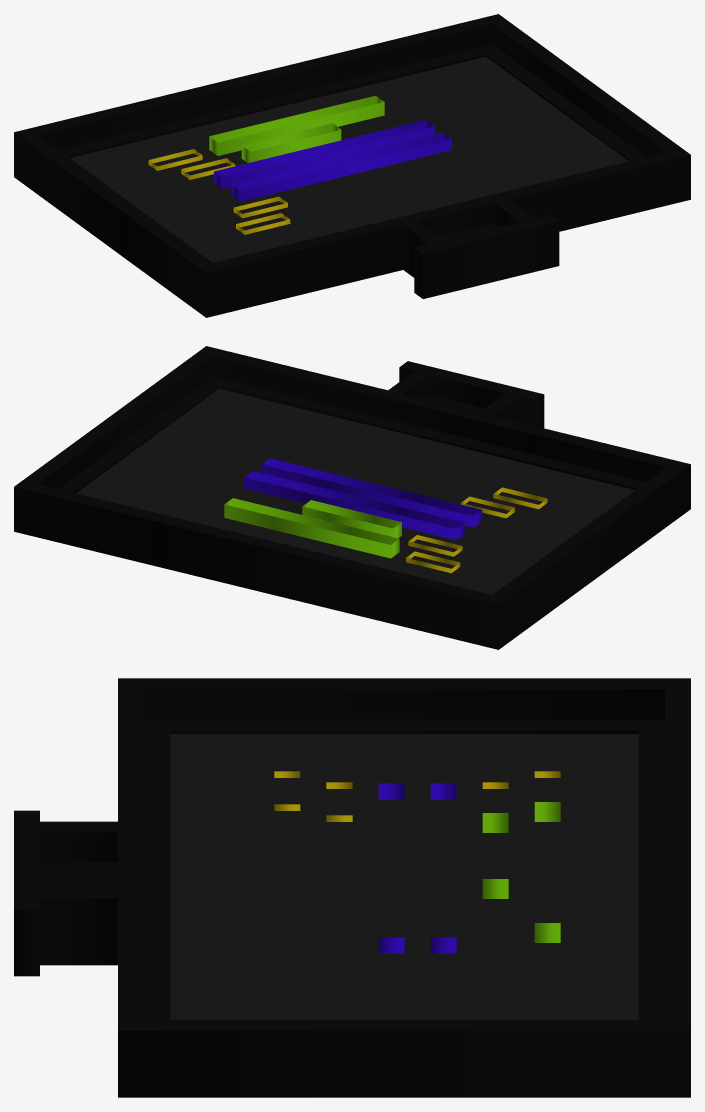
File: web.gltf
3 views of the same model, one above another, from view 1: azimuth 30°, elevation 25°; view 2: azimuth 150°, elevation 25°; view 3: azimuth 270°, elevation 25° (orthographic). The views are drawn at different scales.
Visible parts, largest first — view 1: Curve.003, Curve, Curve.005, Curve.001, Curve.006, Curve.004; view 2: Curve.003, Curve, Curve.001, Curve.005, Curve.006, Curve.004; view 3: Curve, Curve.003, Curve.001, Curve.006, Curve.005, Curve.004.
Boxes of the visible parts, <box> form: Curve.003: <box>14,14,690,317</box>; Curve: <box>70,56,628,262</box>; Curve.005: <box>214,120,451,201</box>; Curve.001: <box>59,44,645,240</box>; Curve.006: <box>209,95,384,162</box>; Curve.004: <box>148,149,290,234</box>; Curve.003: <box>14,346,690,649</box>; Curve: <box>76,388,634,594</box>; Curve.001: <box>59,376,645,493</box>; Curve.005: <box>244,458,482,540</box>; Curve.006: <box>224,498,401,558</box>; Curve.004: <box>406,487,547,573</box>; Curve: <box>170,734,638,1019</box>; Curve.003: <box>14,678,690,1097</box>; Curve.001: <box>40,719,664,1019</box>; Curve.006: <box>482,802,560,942</box>; Curve.005: <box>378,783,456,953</box>; Curve.004: <box>274,771,560,821</box>.
Bounding box in the file's own units: 0.2258 × 0.02 × 0.1834.
